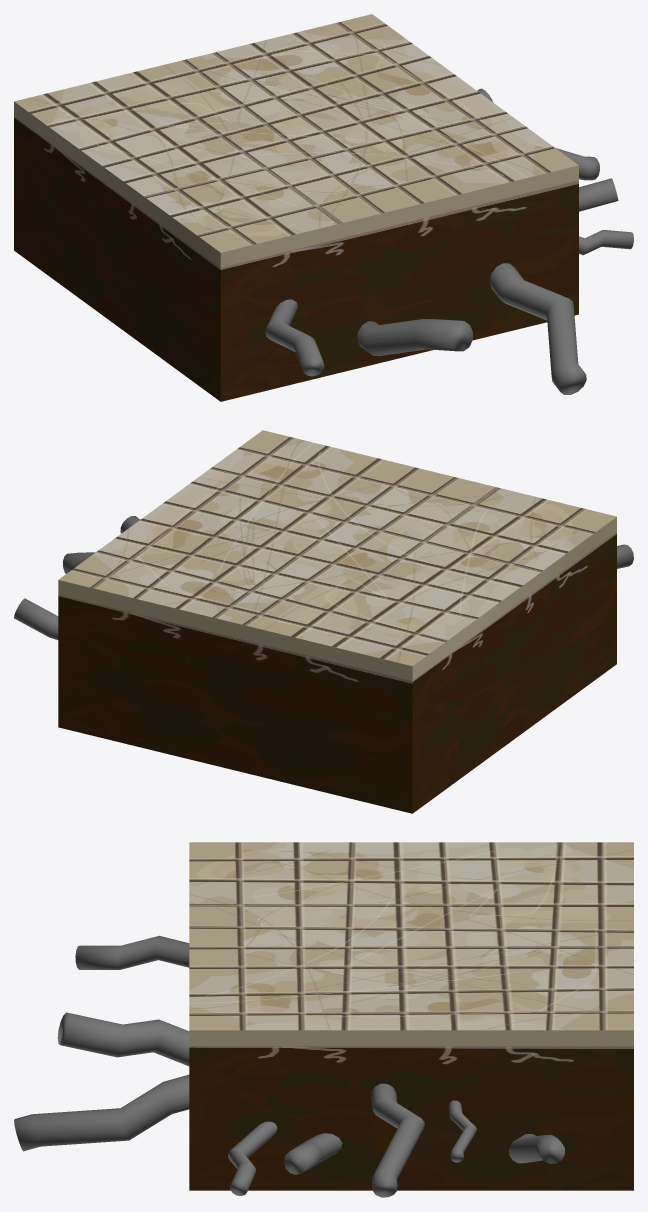
File: Suelo2Lados.fbx
3 views of the same model, one above another, from view 1: azimuth 30°, elevation 25°; view 2: azimuth 150°, elevation 25°; view 3: azimuth 270°, elevation 25° (orthographic). The views are drawn at different scales.
Visible parts, largest first — view 1: Cube.022; view 2: Cube.022; view 3: Cube.022.
Part boxes in pixels (<box>): Cube.022: <box>14,14,633,401</box>; Cube.022: <box>14,430,633,813</box>; Cube.022: <box>14,842,633,1197</box>.
Size of the model in its own units: 1377 by 431 by 1474.
Materials: 3 (2 with a texture image).
